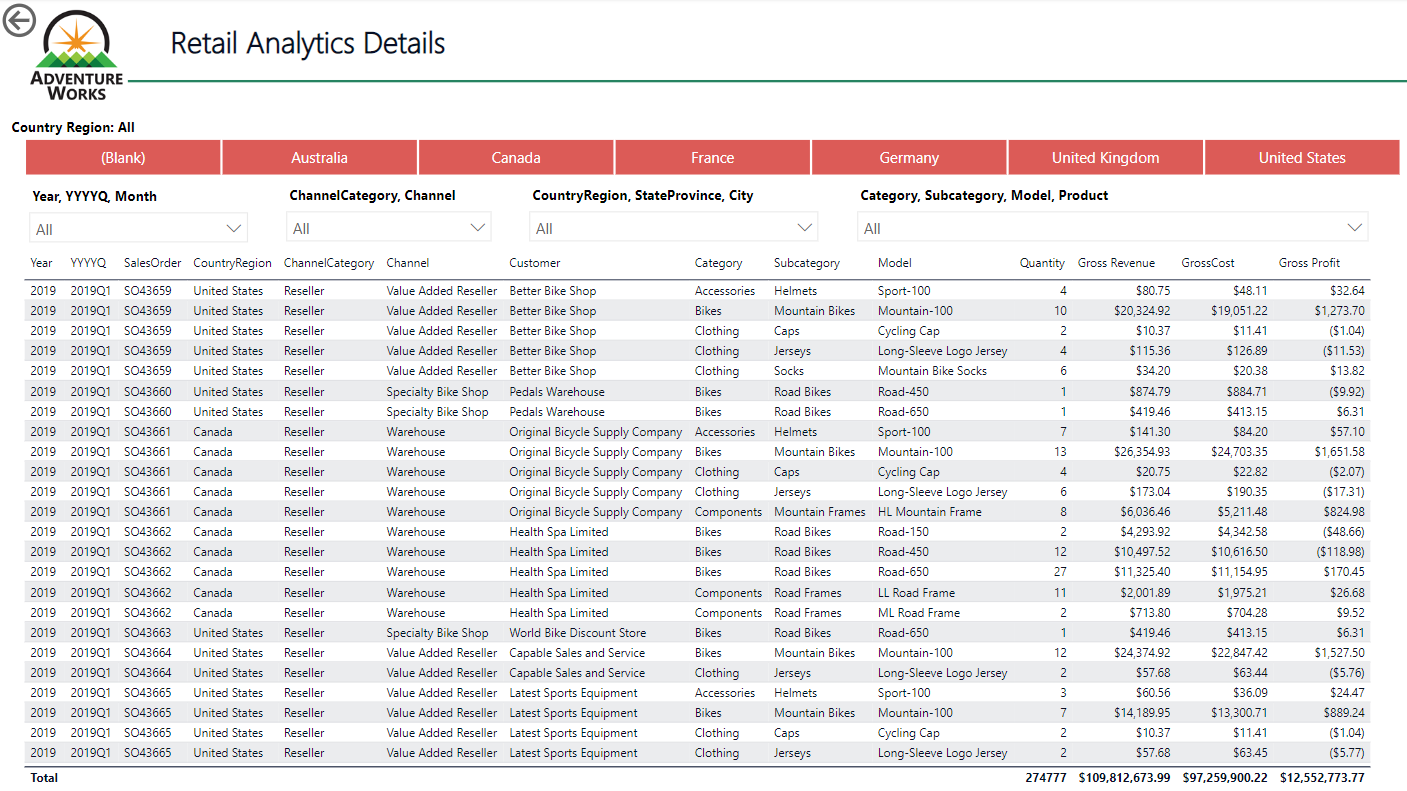

Layout of this report page (visuals, bound fields, positions):
{"tool":"powerbi","page":{"name":"Details","canvas":[1280,720],"ordinal":2},"visuals":[{"type":"shape","box":[116.6,69.4,1163.4,10.6],"z":0},{"type":"image","box":[6.7,0,128.2,102.2],"z":1000},{"type":"textbox","box":[150.4,15.2,1129.3,53.7],"z":2000},{"type":"tableEx","fields":{"Values":["DimDate.Year","DimDate.YYYYQ","FactSales.SalesOrder","DimGeography.CountryRegion","DimChannel.ChannelCategory","DimChannel.Channel","DimCustomer.Customer","DimProduct.Category","DimProduct.Subcategory","DimProduct.Model","FactSales.Quantity","FactSales.Gross Revenue"]},"box":[18.8,223,1260.9,488.1],"z":3000},{"type":"actionButton","box":[0,0,100,40],"z":4000},{"type":"slicer","fields":{"Values":["DimDate.Date Hierarchy.Year","DimDate.Date Hierarchy.YYYYQ","DimDate.Date Hierarchy.Month"]},"box":[18.8,163.4,215.8,60],"z":5000},{"type":"slicer","fields":{"Values":["DimChannel.ChannelCategory Hierarchy.ChannelCategory","DimChannel.ChannelCategory Hierarchy.Channel"]},"box":[248.7,163,204.2,60],"z":6000},{"type":"slicer","fields":{"Values":["DimGeography.Geography Hierarchy.CountryRegion","DimGeography.Geography Hierarchy.StateProvince","DimGeography.Geography Hierarchy.City"]},"box":[466.9,163,279.4,60],"z":7000},{"type":"slicer","fields":{"Values":["DimProduct.Product Hierarchy.Category","DimProduct.Product Hierarchy.Subcategory","DimProduct.Product Hierarchy.Model","DimProduct.Product Hierarchy.Product"]},"box":[760.3,163,478.2,60],"z":8000},{"type":"slicer","fields":{"Values":["DimGeography.CountryRegion"]},"box":[0,102.2,1280,62.7],"z":9000}]}

Visuals, with their boxes in screenshot pixels (x1, y1, x2, y2), scaled from the page's 1280x720 canvas onto the 1407x791 screenshot:
shape: <box>128,76,1406,88</box>
image: <box>7,0,148,112</box>
textbox: <box>165,17,1406,76</box>
tableEx - DimDate.Year x DimDate.YYYYQ: <box>21,245,1406,781</box>
actionButton: <box>0,0,110,44</box>
slicer - DimDate.Date Hierarchy.Year x DimDate.Date Hierarchy.YYYYQ: <box>21,180,258,245</box>
slicer - DimChannel.ChannelCategory Hierarchy.ChannelCategory x DimChannel.ChannelCategory Hierarchy.Channel: <box>273,179,498,245</box>
slicer - DimGeography.Geography Hierarchy.CountryRegion x DimGeography.Geography Hierarchy.StateProvince: <box>513,179,820,245</box>
slicer - DimProduct.Product Hierarchy.Category x DimProduct.Product Hierarchy.Subcategory: <box>836,179,1361,245</box>
slicer - DimGeography.CountryRegion: <box>0,112,1406,181</box>
